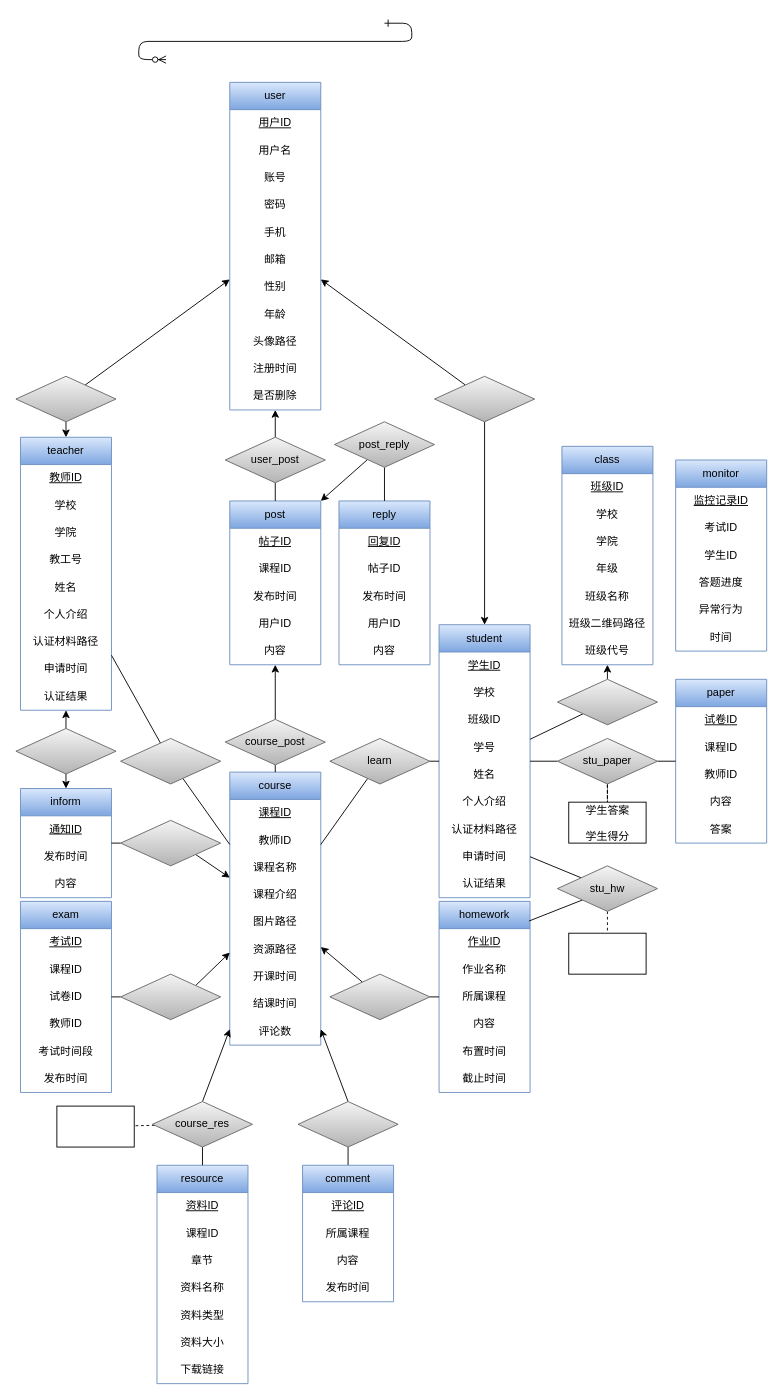
Image size: 783x1400. Some labels were removed from this diagram. Here are the shapes that lost their labels. From the top down, the centre of each, then its label:
At pixel 65 398: "user_teacher".
At pixel 484 398: "user_stu".
At pixel 606 701: "class_stu".
At pixel 65 751: "teacher_inf".
At pixel 170 761: "teach".
At pixel 170 842: "course_inf".
At pixel 607 953: "提交时间".
At pixel 170 996: "exam_schedule".
At pixel 379 996: "set_hw".
At pixel 95 1126: "资料说明".
At pixel 347 1124: "course_comm".
